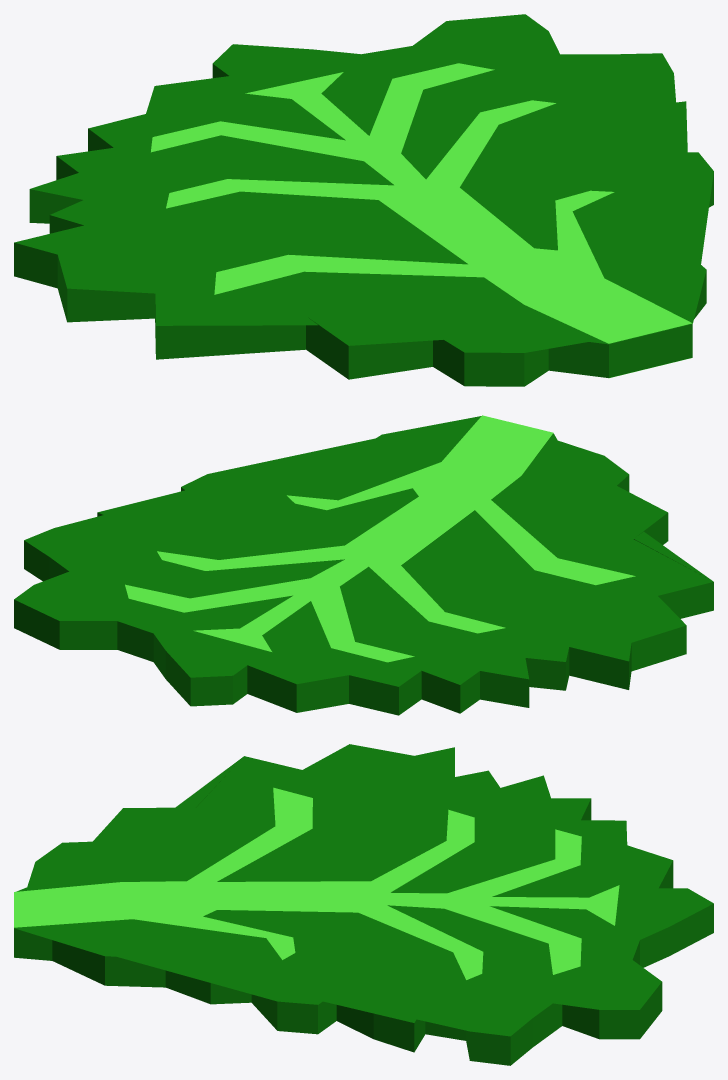
The model's file is Lettuce1.fbx.
3 views of the same model, one above another, from view 1: azimuth 30°, elevation 25°; view 2: azimuth 150°, elevation 25°; view 3: azimuth 270°, elevation 25° (orthographic). The views are drawn at different scales.
Parts seen in each view (by area): view 1: Lettuce, Lettuce_stalk; view 2: Lettuce, Lettuce_stalk; view 3: Lettuce, Lettuce_stalk.
Part boxes in pixels (bbox=[...]): Lettuce: bbox=[14, 14, 713, 386]; Lettuce_stalk: bbox=[151, 63, 692, 378]; Lettuce: bbox=[14, 416, 713, 715]; Lettuce_stalk: bbox=[125, 415, 635, 662]; Lettuce: bbox=[14, 744, 713, 1065]; Lettuce_stalk: bbox=[14, 787, 619, 979].
Size of the model in its own units: 46.04 by 2.22 by 46.58.
